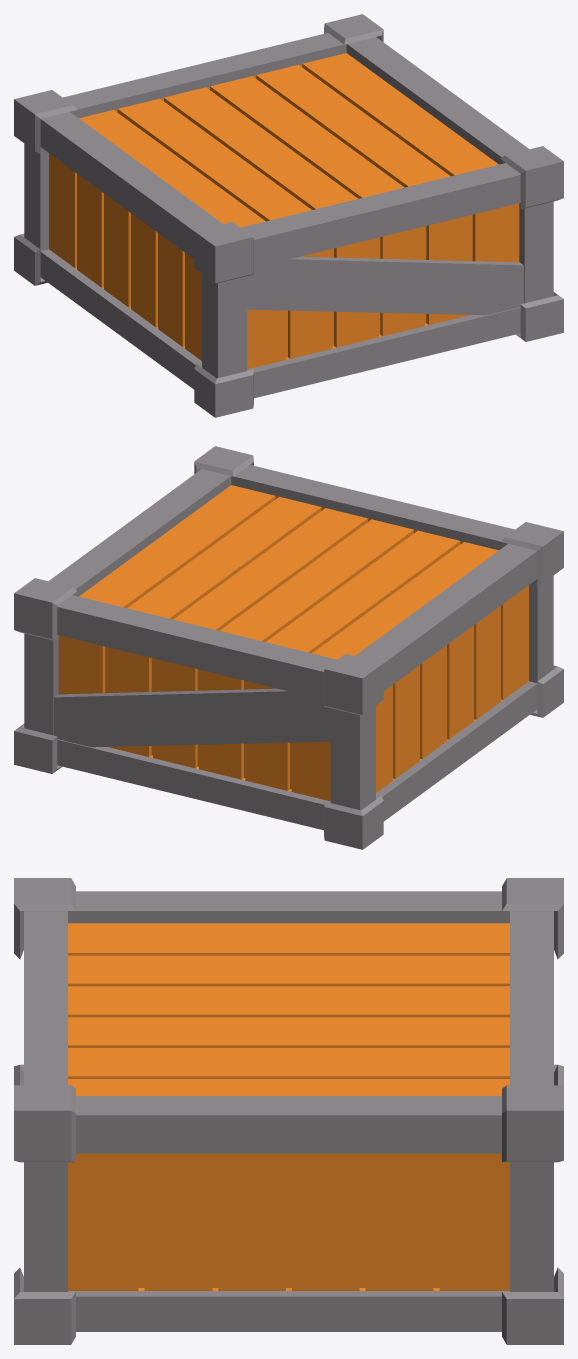
File: little_Crate_box.fbx
The picture shows the model from 3 angles, top to bottom: view 1: azimuth 30°, elevation 25°; view 2: azimuth 150°, elevation 25°; view 3: azimuth 270°, elevation 25°; orthographic projection. The views are drawn at different scales.
Parts seen in each view (by area): view 1: Cube; view 2: Cube; view 3: Cube.
Boxes of the visible parts, x1,y1,x2,y2 form: Cube: (14,14,563,417); Cube: (14,446,563,849); Cube: (14,878,563,1344).
Bounding box in the file's own units: 208 × 97.61 × 208.
